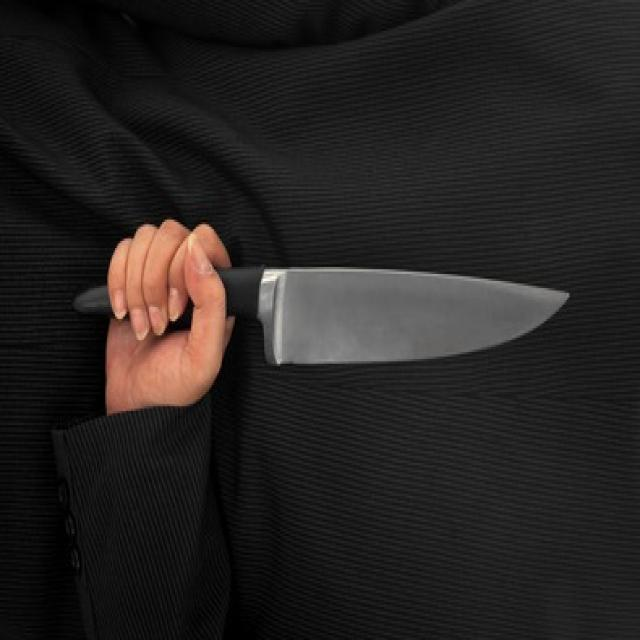knife: (74, 261, 575, 374)
